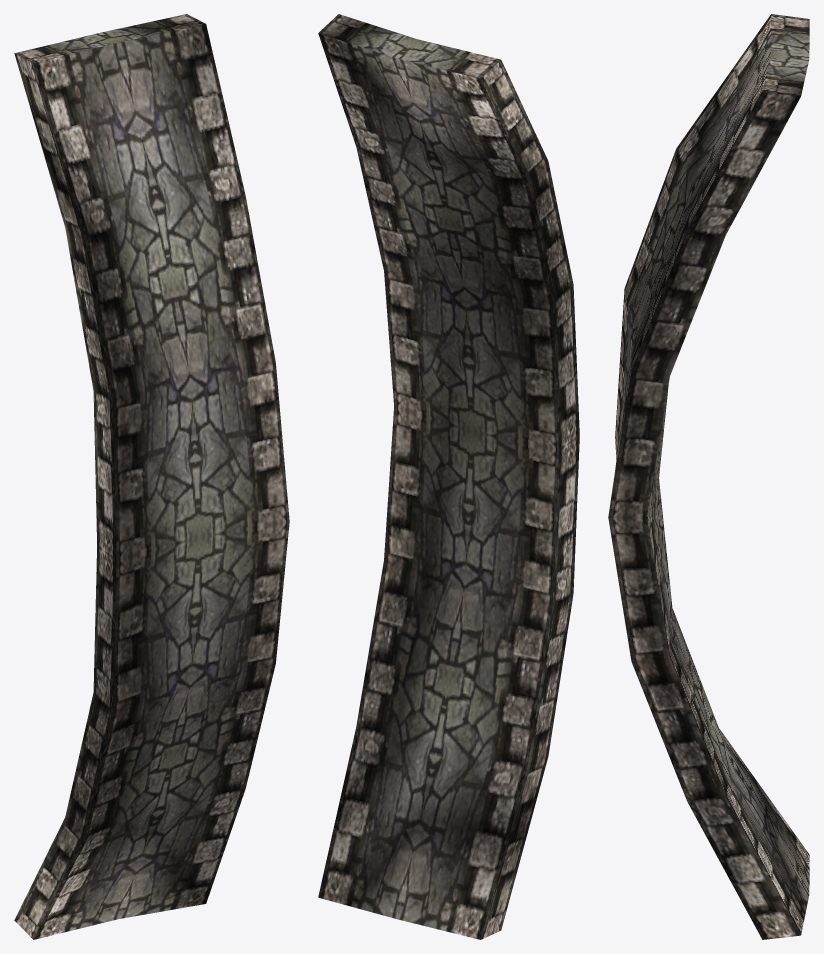
Rendered from bridge_02.obj.
The picture shows the model from 3 angles, left to right: view 1: azimuth 30°, elevation 25°; view 2: azimuth 150°, elevation 25°; view 3: azimuth 270°, elevation 25°; orthographic projection. The views are drawn at different scales.
Visible parts, largest first — view 1: (null); view 2: (null); view 3: (null).
Part boxes in pixels (x1,y1,x2,y2): (null): [14, 14, 289, 939]; (null): [318, 14, 579, 939]; (null): [608, 14, 809, 939].
Size of the model in its own units: 1.98 by 9.64 by 2.07.
